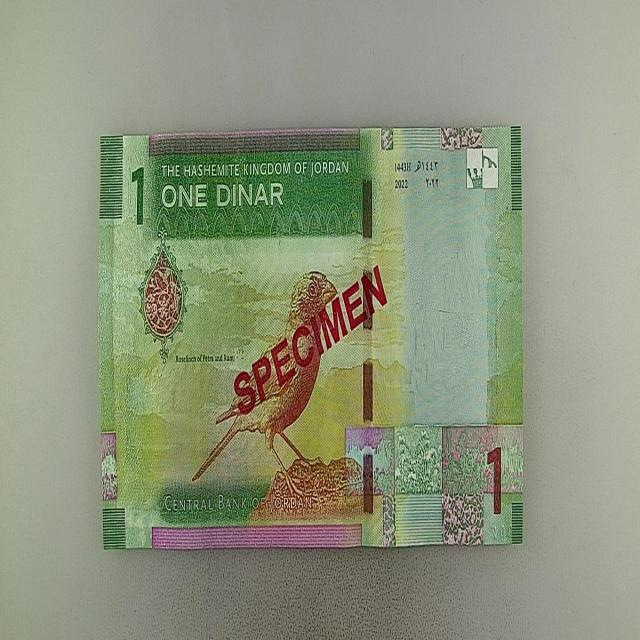1-dinar: (100, 125, 525, 549)
